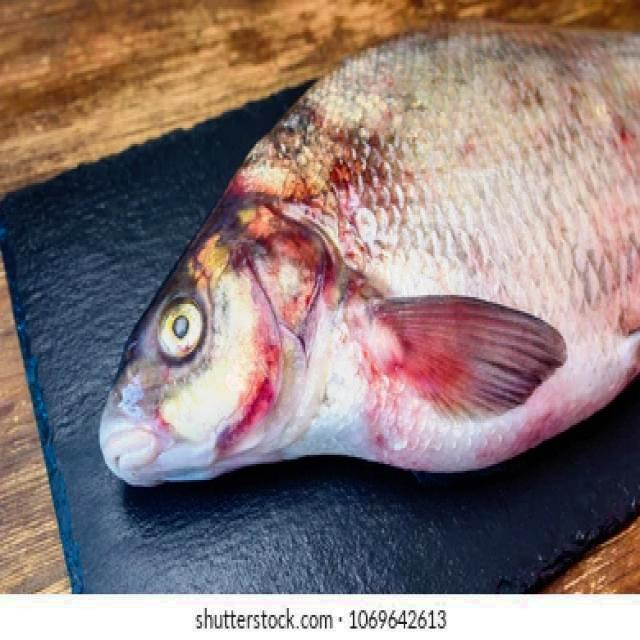Epizootic Ulcerative Syndrome -EUS-: (99, 22, 639, 486)
